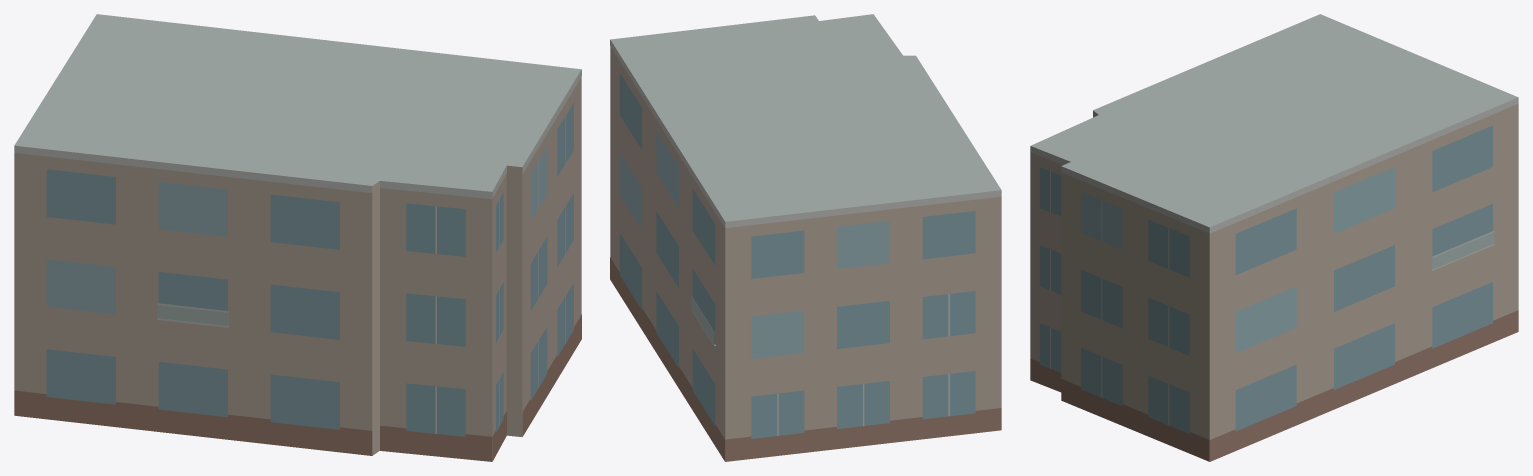
Rendered from survey-upis-32775372.glb.
3 renders of one model, left to right at view 1: azimuth 30°, elevation 25°; view 2: azimuth 150°, elevation 25°; view 3: azimuth 270°, elevation 25°, orthographic. The views are drawn at different scales.
Parts seen in each view (by area): view 1: survey-upis-32775372.tmp; view 2: survey-upis-32775372.tmp; view 3: survey-upis-32775372.tmp.
Part boxes in pixels (left/top/right/bottom): survey-upis-32775372.tmp: left=14, top=14, right=581, bottom=461; survey-upis-32775372.tmp: left=610, top=14, right=1001, bottom=461; survey-upis-32775372.tmp: left=1030, top=14, right=1518, bottom=461.
Bounding box in the file's own units: 17.88 × 9.15 × 17.28.
